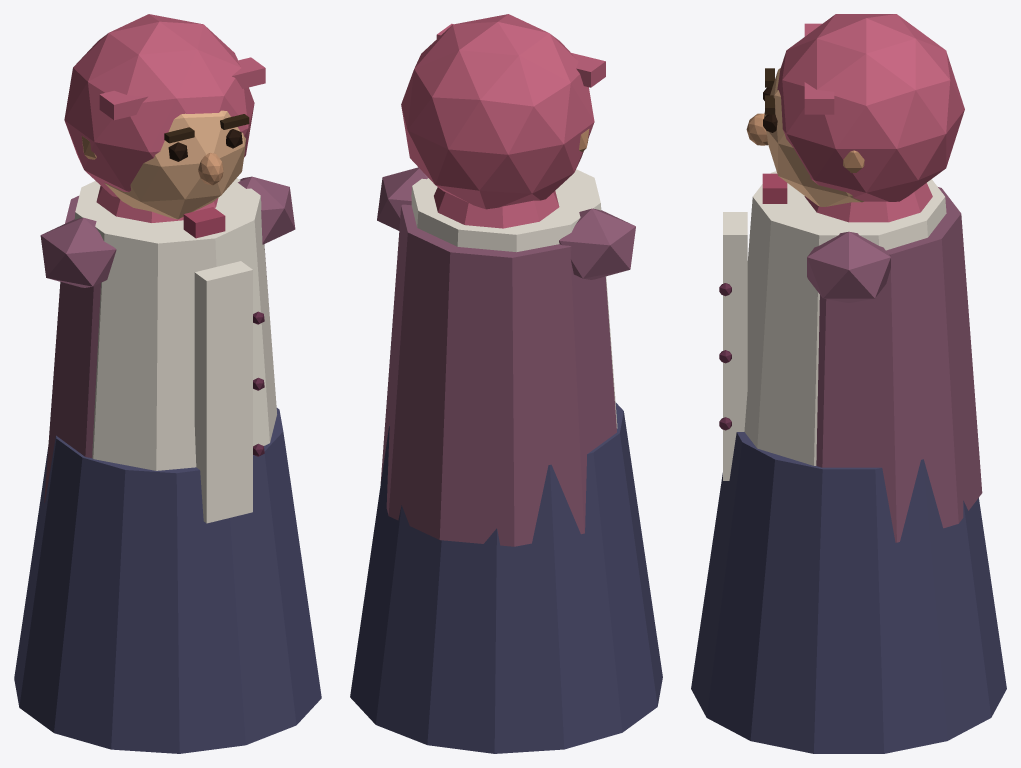
The model's file is insan_k0k_govde.glb.
3 views of the same model, side by side, from view 1: azimuth 30°, elevation 25°; view 2: azimuth 150°, elevation 25°; view 3: azimuth 270°, elevation 25° (orthographic).
Parts seen in each view (by area): view 1: Cone; view 2: Cone; view 3: Cone.
Part boxes in pixels (box(x1,y1,x2,y2)): Cone: box(14, 14, 321, 753); Cone: box(350, 14, 662, 753); Cone: box(691, 14, 1006, 753).
Bounding box in the file's own units: 0.1248 × 0.2998 × 0.128.
